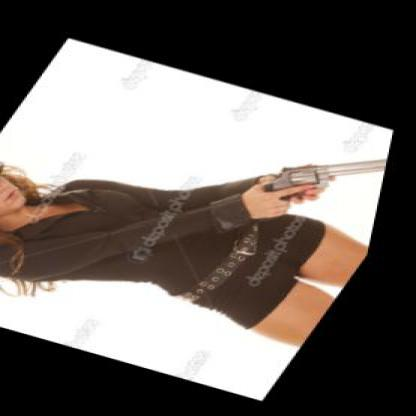pistol: (233, 115, 396, 246)
